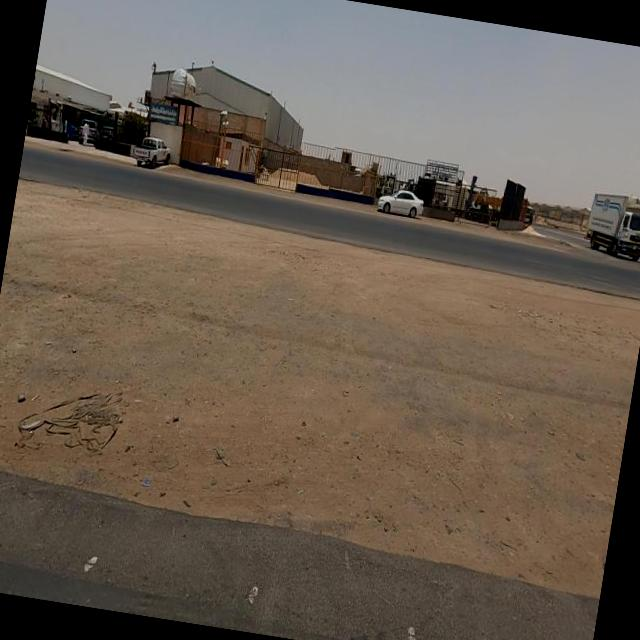debris: (0, 317, 185, 506)
